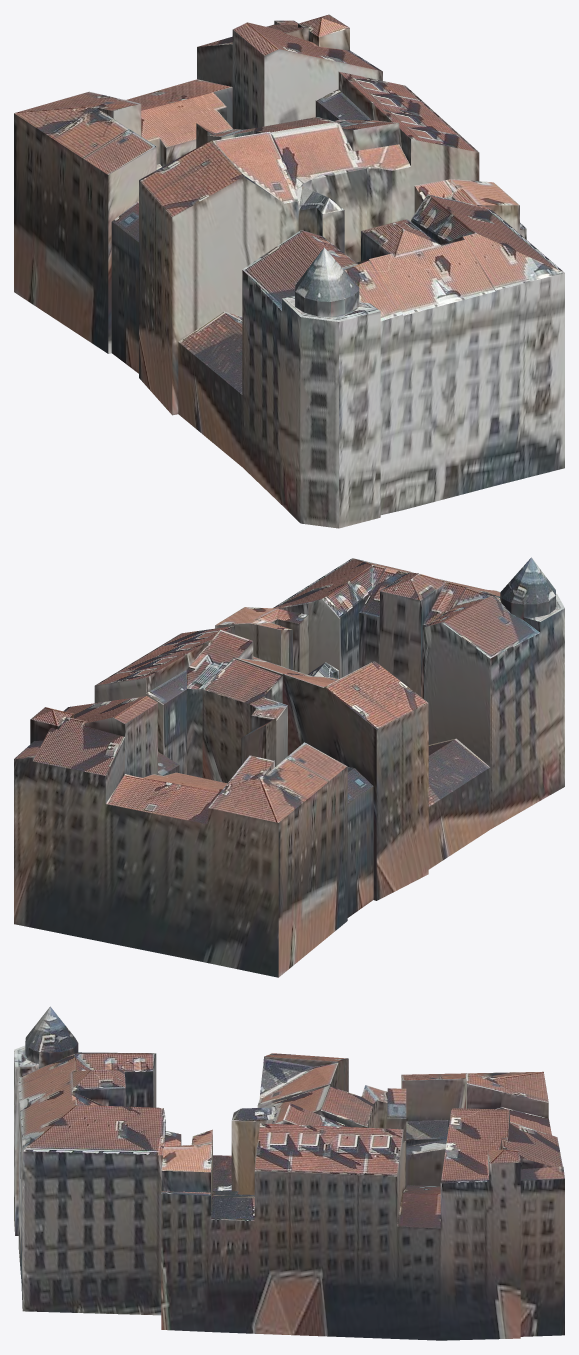
Rendered from LYON_1ER_00104.dae.
3 views of the same model, one above another, from view 1: azimuth 30°, elevation 25°; view 2: azimuth 150°, elevation 25°; view 3: azimuth 270°, elevation 25° (orthographic). The views are drawn at different scales.
Size of the model in its own units: 42.65 by 75.7 by 32.69.
2 materials, 2 textured.
